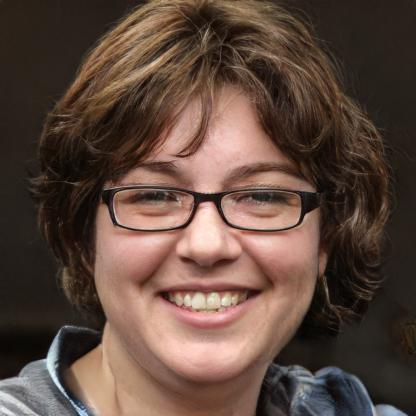glasses: (98, 180, 316, 236)
